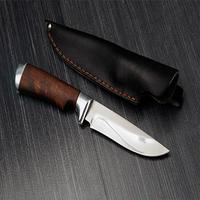knife: (14, 58, 174, 165)
